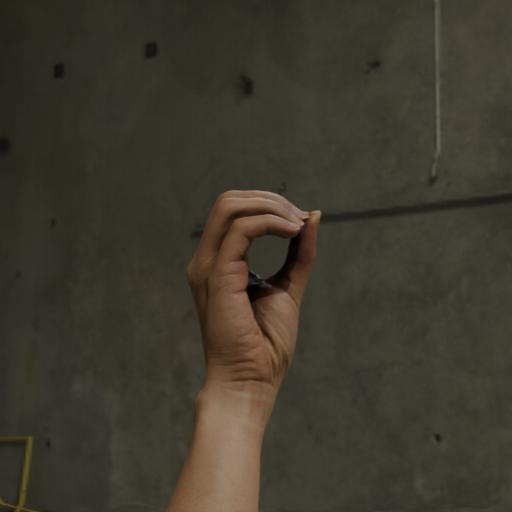O: (174, 157, 330, 409)
